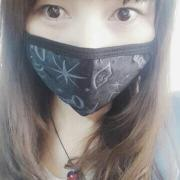WRONG: (28, 3, 151, 116)
